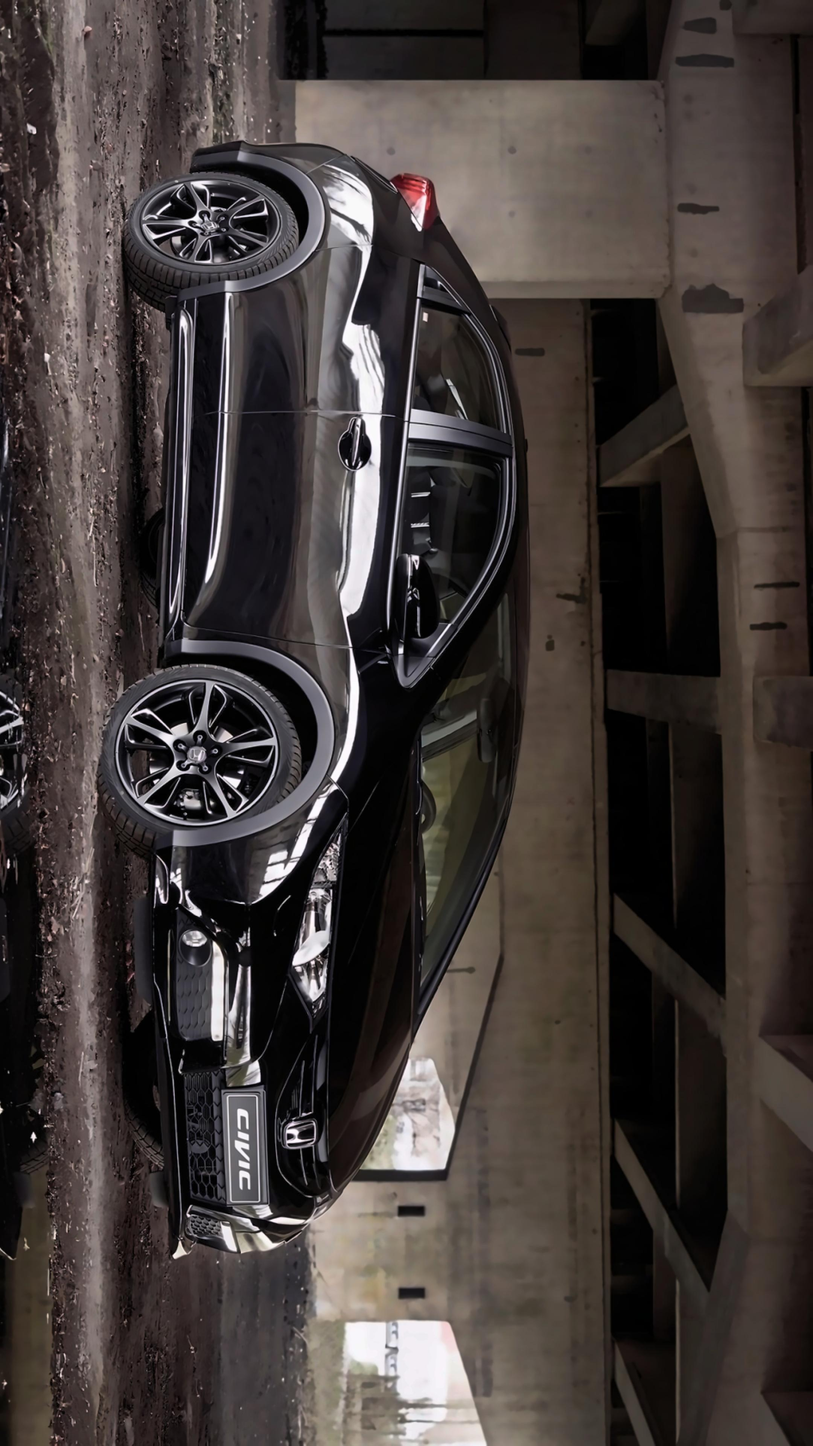Car hood: (320, 672, 425, 1206)
Driver-s door - -F-R-: (145, 399, 530, 669)
Fender - -F-R-: (141, 601, 433, 850)
Fender - -R-R-: (250, 165, 478, 354)
Front bumper: (115, 832, 338, 1261)
Headlight - -R-: (282, 819, 348, 1014)
Passenger-s door - -R-R-: (171, 251, 533, 450)
Rear bumper: (185, 126, 353, 179)
Rear light - -R-: (390, 170, 433, 236)
Side bumper - -R-: (134, 281, 269, 667)
Side mirror - -R-: (367, 544, 445, 661)
